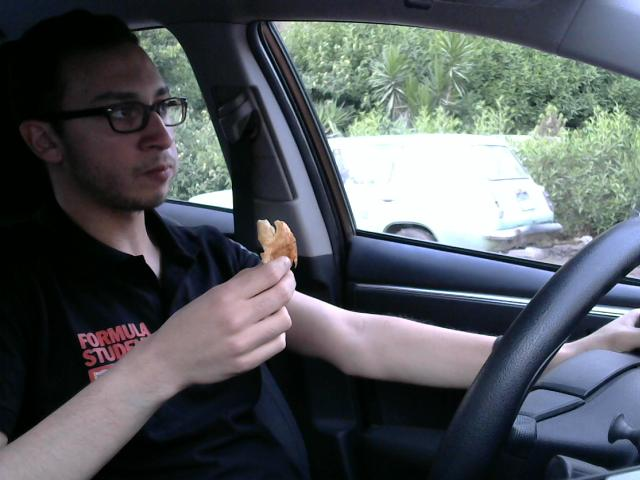Eating: (244, 213, 302, 282)
